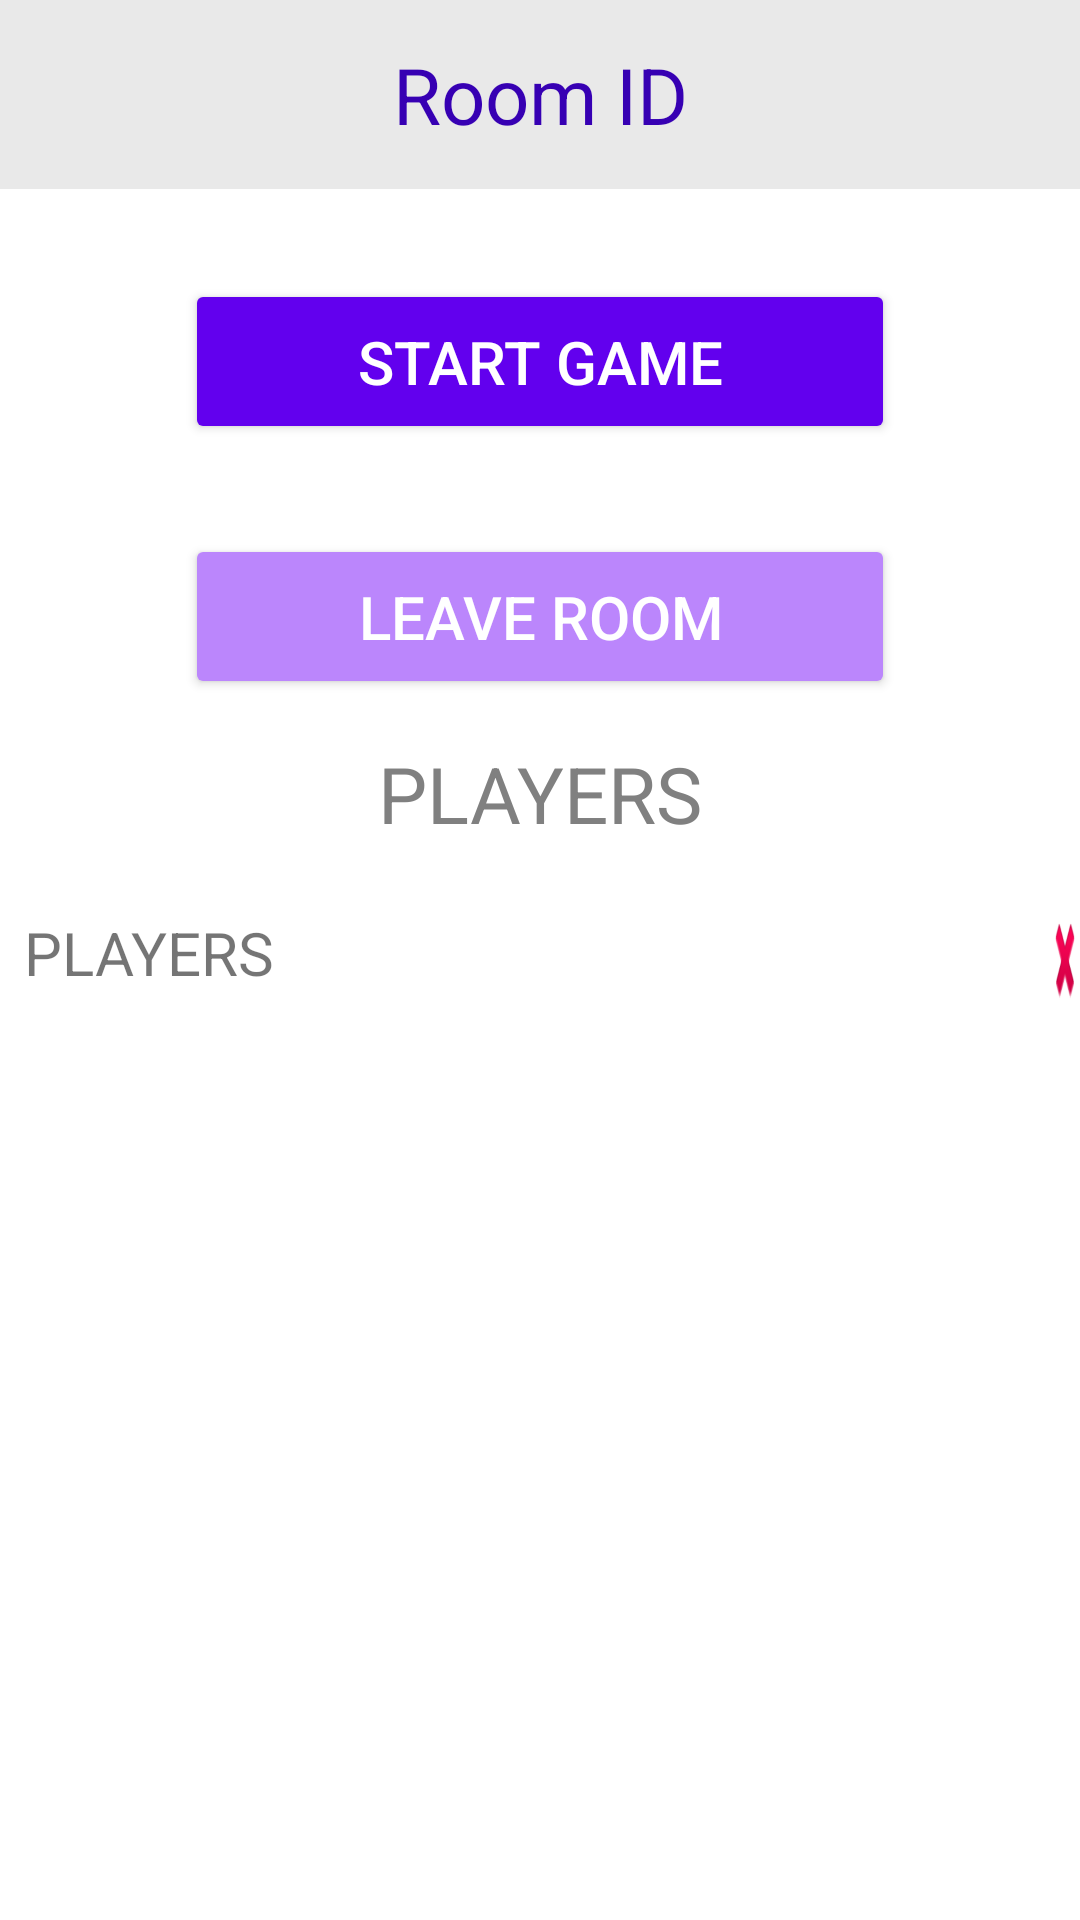

Icons on this 1080×1920 Android screen, each with the point to tap as point (x, y):
delete: point (1065, 960)
